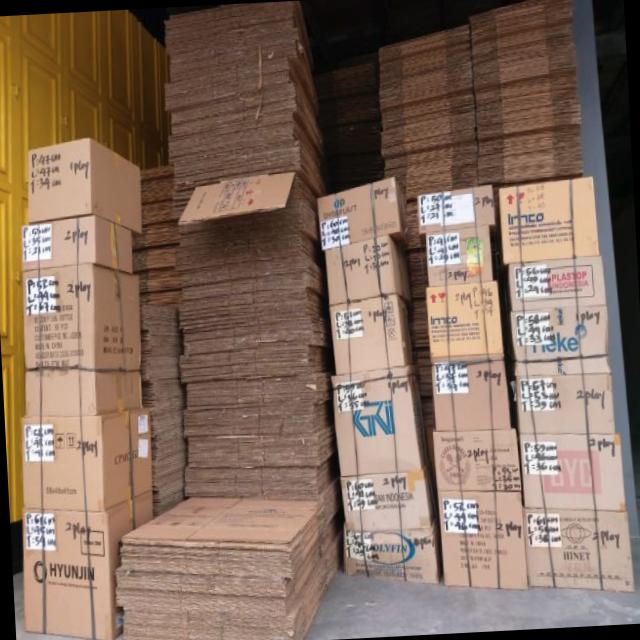Kardus: (0, 0, 640, 640), (317, 163, 635, 607), (0, 133, 166, 640), (166, 11, 334, 491), (109, 486, 340, 640), (424, 230, 516, 494), (520, 438, 636, 598), (508, 258, 608, 361), (332, 373, 421, 477), (499, 178, 599, 264), (515, 359, 615, 438), (418, 191, 494, 229)
